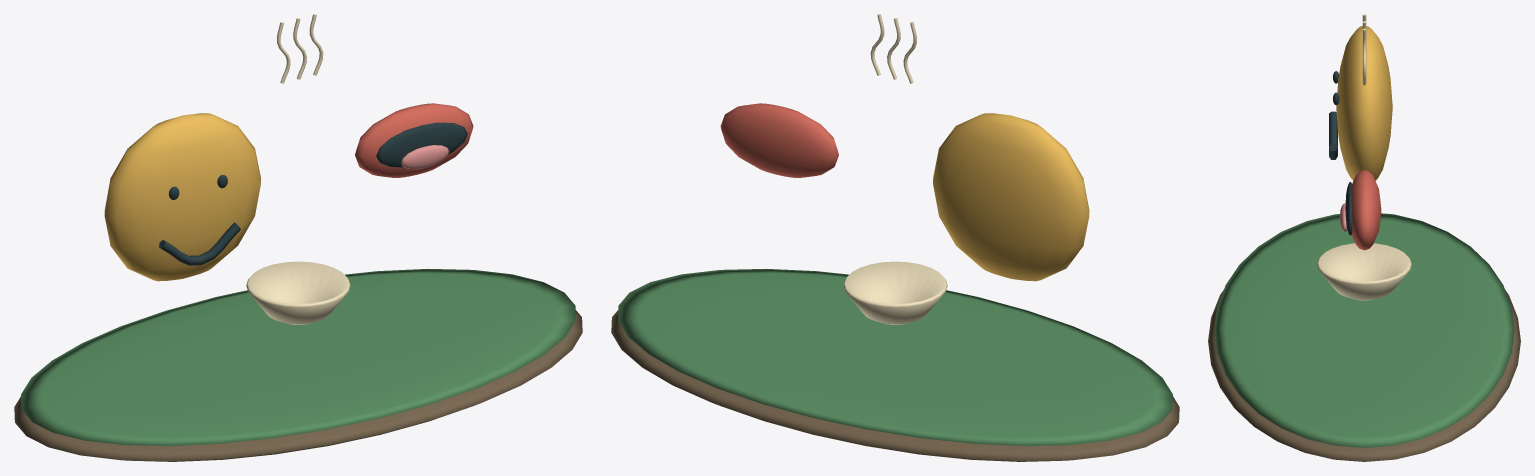
File: complete-first-good-to-eat.glb
3 renders of one model, left to right at view 1: azimuth 30°, elevation 25°; view 2: azimuth 150°, elevation 25°; view 3: azimuth 270°, elevation 25°, orthographic. The views are drawn at different scales.
Parts seen in each view (by area): view 1: complete-first-good-to-eat_surface_01, complete-first-good-to-eat_surface_02, complete-first-good-to-eat_surface_00, complete-first-good-to-eat_surface_06, complete-first-good-to-eat_surface_04, complete-first-good-to-eat_surface_03, complete-first-good-to-eat_surface_05; view 2: complete-first-good-to-eat_surface_01, complete-first-good-to-eat_surface_02, complete-first-good-to-eat_surface_00, complete-first-good-to-eat_surface_04, complete-first-good-to-eat_surface_06; view 3: complete-first-good-to-eat_surface_01, complete-first-good-to-eat_surface_02, complete-first-good-to-eat_surface_00, complete-first-good-to-eat_surface_06, complete-first-good-to-eat_surface_04, complete-first-good-to-eat_surface_03.
Part boxes in pixels (x1,y1,x2,y2): complete-first-good-to-eat_surface_01: (21,268,575,445); complete-first-good-to-eat_surface_02: (104,113,260,281); complete-first-good-to-eat_surface_00: (14,310,582,461); complete-first-good-to-eat_surface_06: (246,14,350,324); complete-first-good-to-eat_surface_04: (355,103,473,177); complete-first-good-to-eat_surface_03: (159,122,467,265); complete-first-good-to-eat_surface_05: (401,145,449,169); complete-first-good-to-eat_surface_01: (618,268,1172,445); complete-first-good-to-eat_surface_02: (933,113,1089,281); complete-first-good-to-eat_surface_00: (611,310,1179,461); complete-first-good-to-eat_surface_04: (720,103,838,177); complete-first-good-to-eat_surface_06: (843,14,947,324); complete-first-good-to-eat_surface_01: (1214,213,1514,447); complete-first-good-to-eat_surface_02: (1336,26,1392,180); complete-first-good-to-eat_surface_00: (1208,290,1520,461); complete-first-good-to-eat_surface_06: (1317,14,1411,300); complete-first-good-to-eat_surface_04: (1351,169,1381,250); complete-first-good-to-eat_surface_03: (1329,71,1352,235).
Size of the model in its own units: 4.56 by 2.95 by 2.5.
